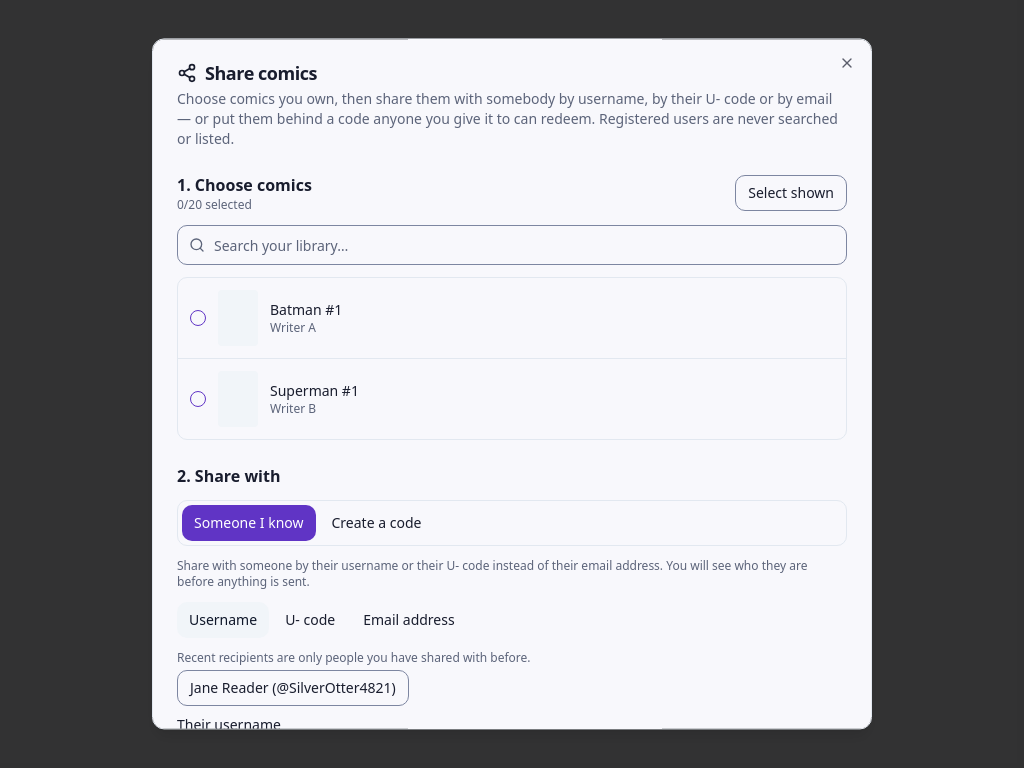
Test: ShareComicsDialog › creates a C- code and explains where it can be shown again
Expected: the text "Batman #1" is shown, [270,300,342,319]
Click the checkbox named "Select Batman #1".
click(198, 318)  # box [190,310,206,326]
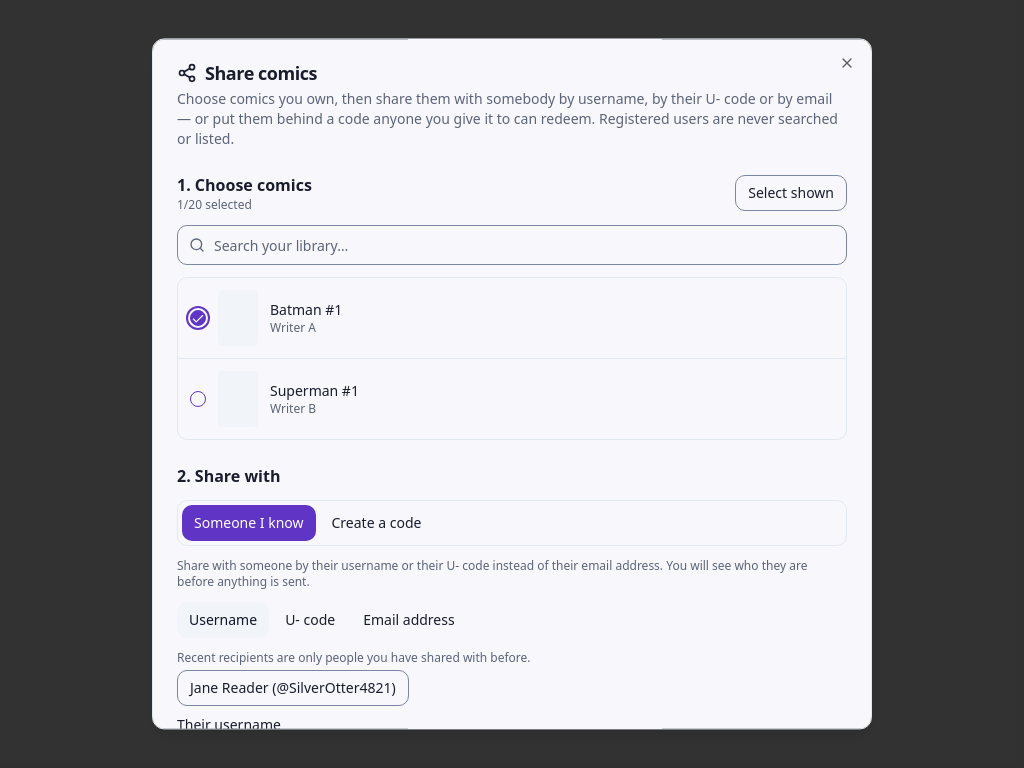
Click the tab "Create a code".
click(376, 523)  # box [320,505,433,541]
(page scrolled)
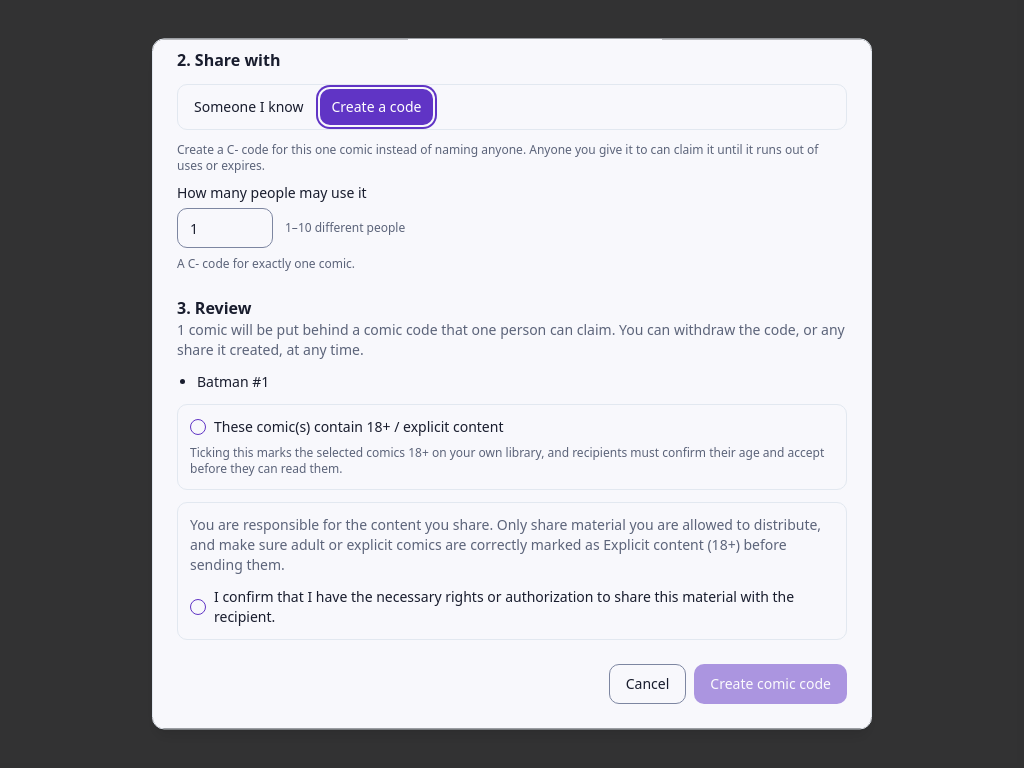
Click the 2nd checkbox named "I confirm that I have the necessary rights".
click(198, 607)  # box [190,599,206,615]
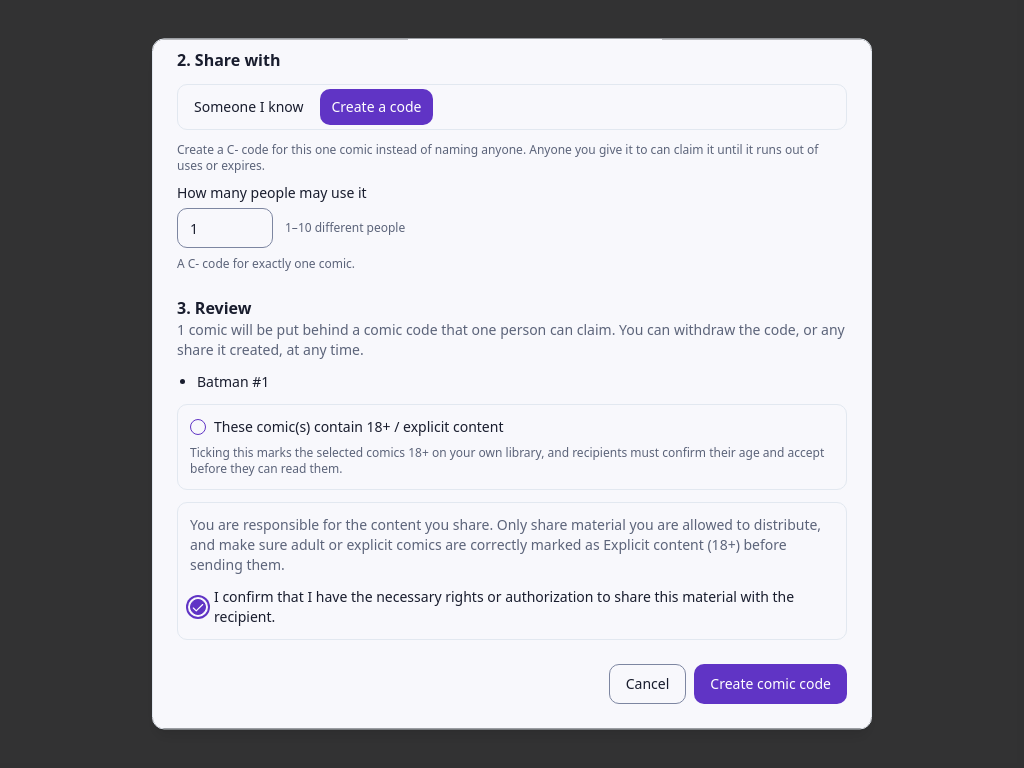
Click the button "Create comic code".
click(771, 684)  # box [694,664,847,704]
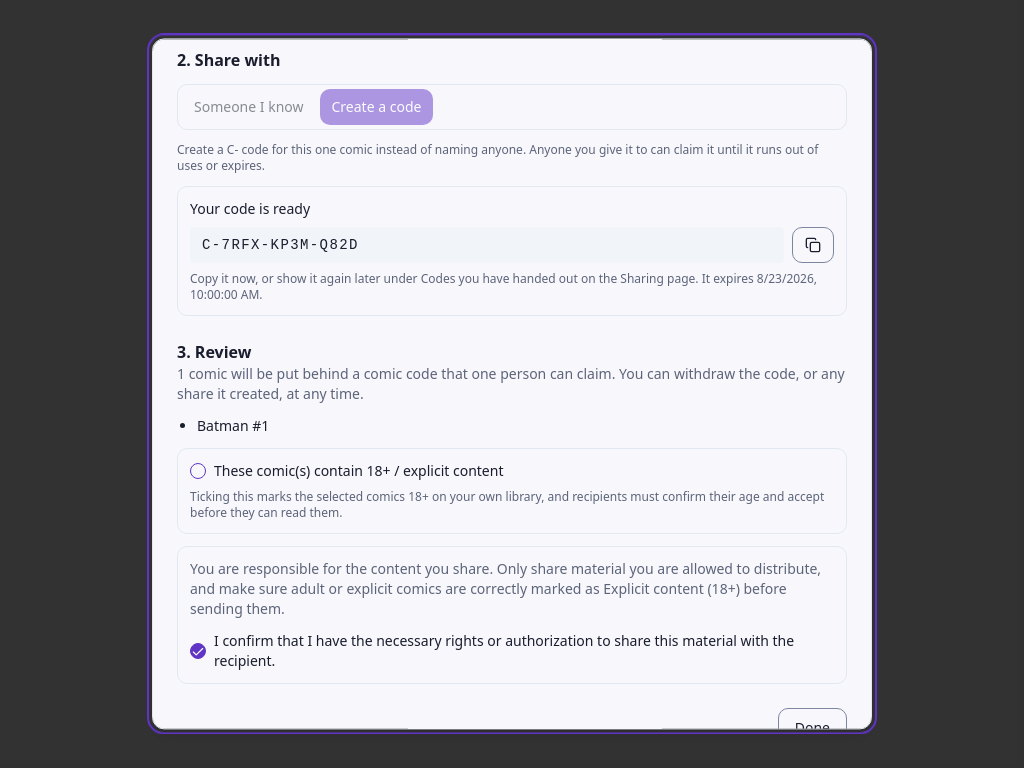
Result: the text named "Your new sharing code" reads "C-7RFX-KP3M-Q82D" at [202,237,359,253]
Result: the text "Copy it now, or show it again later under Codes you have handed out on the Sharing page." is shown at [190,270,698,287]
